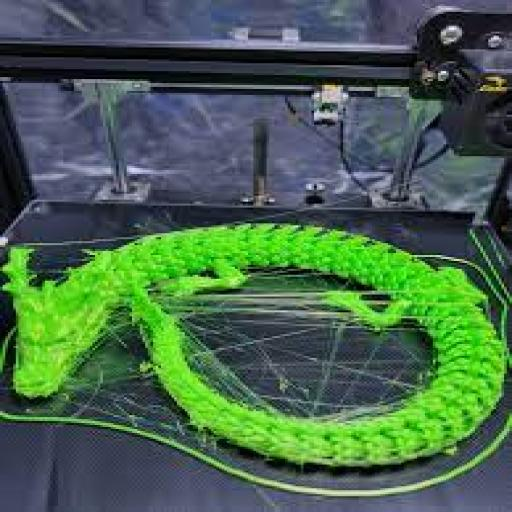spaghetti: (157, 270, 408, 338), (49, 300, 141, 418)
